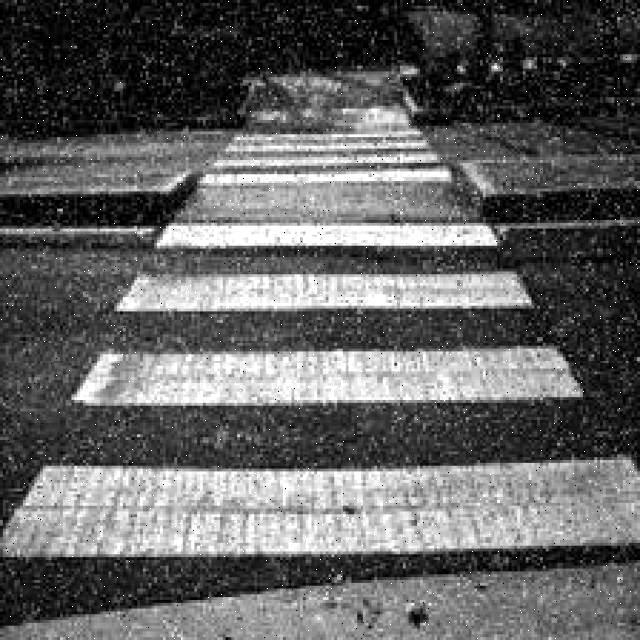crosswalk: (0, 74, 632, 630)
